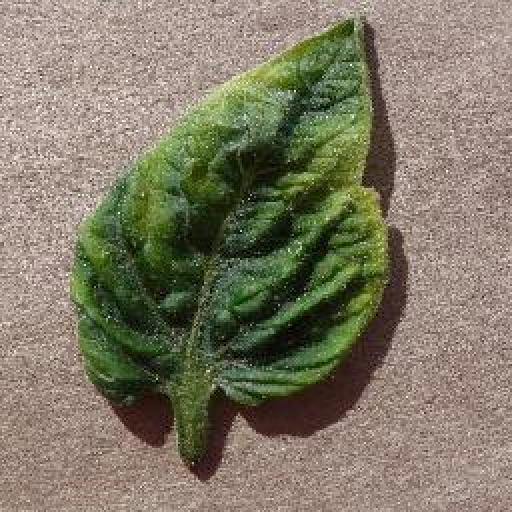disease_tomato: (72, 14, 394, 408)
